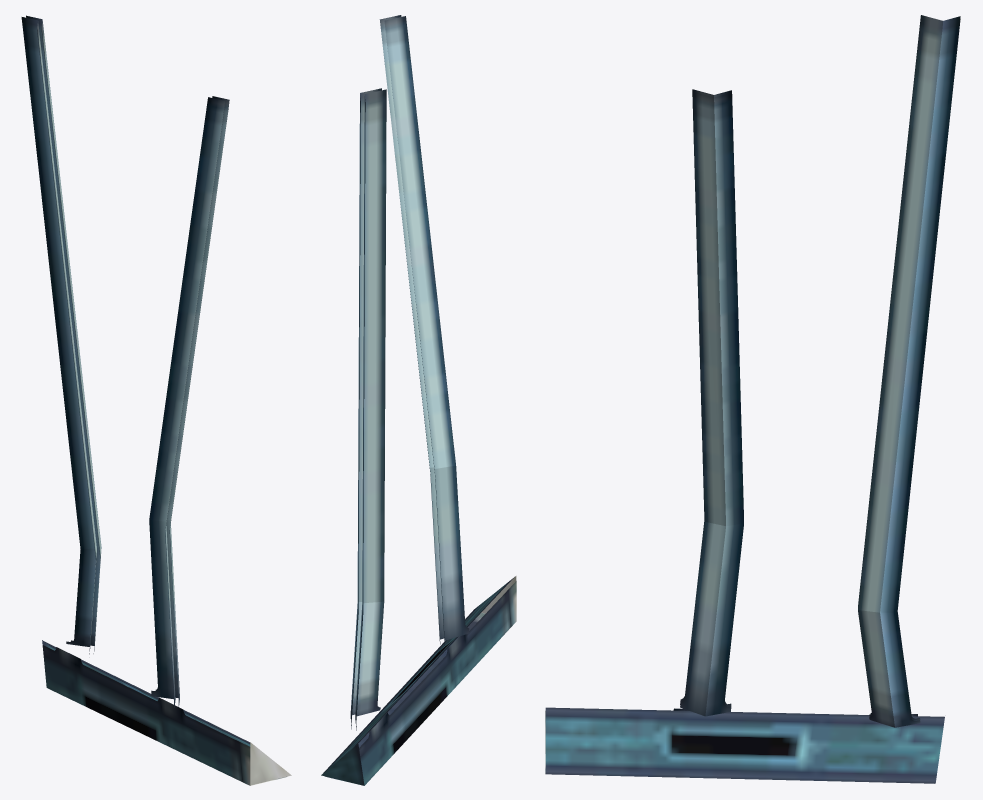
File: cage_broken3.obj
3 views of the same model, side by side, from view 1: azimuth 30°, elevation 25°; view 2: azimuth 150°, elevation 25°; view 3: azimuth 270°, elevation 25° (orthographic). The views are drawn at different scales.
Visible parts, largest first — view 1: Object_1; view 2: Object_1; view 3: Object_1.
Boxes of the visible parts, bbox=[...] form: Object_1: bbox=[21, 15, 291, 785]; Object_1: bbox=[321, 15, 516, 785]; Object_1: bbox=[545, 15, 960, 783].
Bounding box in the file's own units: 3.04 × 19.09 × 9.89.
